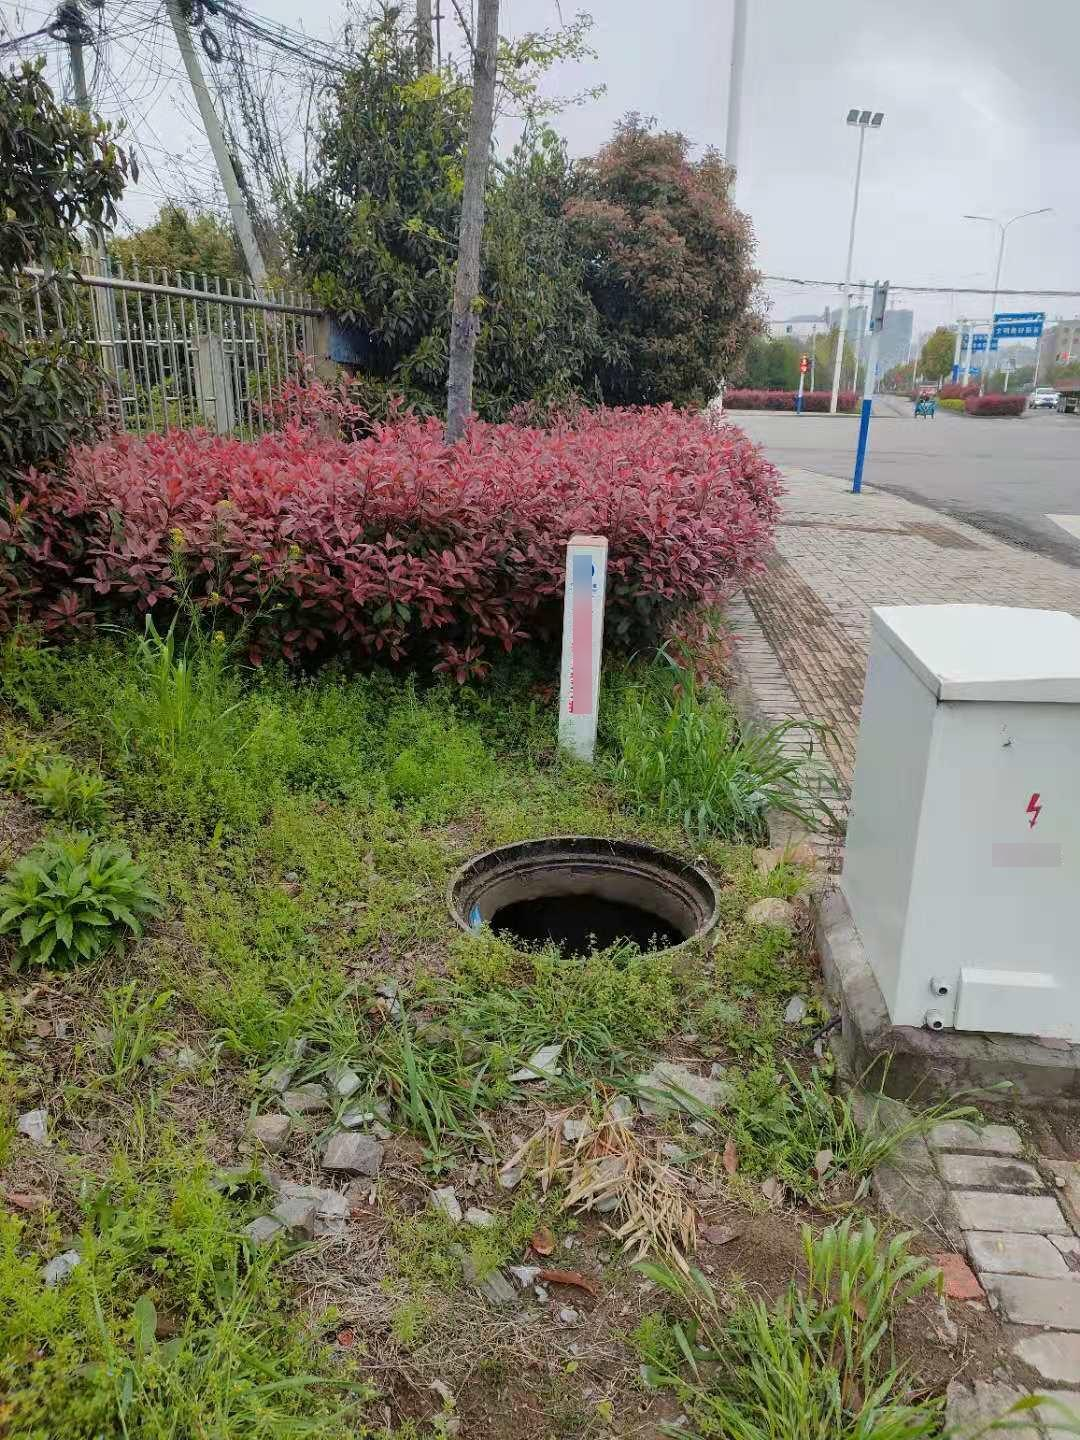wellcover: (404, 794, 763, 1007)
